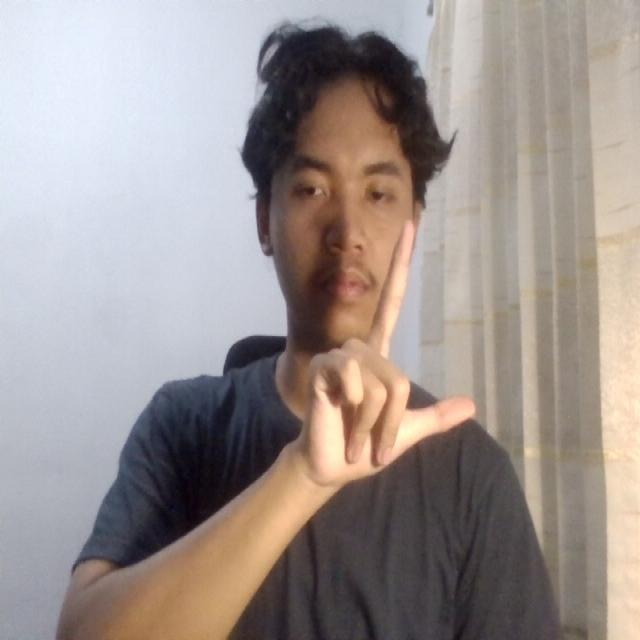I: (278, 210, 491, 494)
